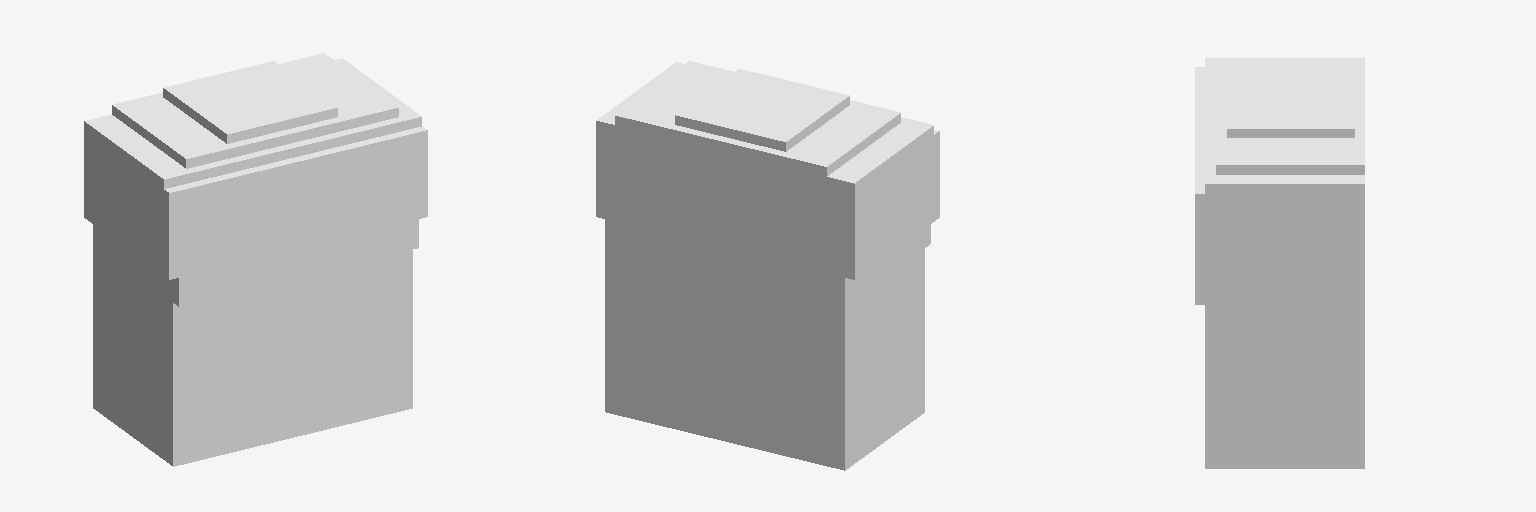
The model's file is torso_male_01.obj.
The picture shows the model from 3 angles: view 1: azimuth 30°, elevation 25°; view 2: azimuth 150°, elevation 25°; view 3: azimuth 270°, elevation 25°; orthographic projection.
Visible parts, largest first — view 1: torso_male_01; view 2: torso_male_01; view 3: torso_male_01.
Part boxes in pixels (x1,y1,x2,y2): torso_male_01: (84, 53, 427, 466); torso_male_01: (596, 61, 939, 470); torso_male_01: (1195, 58, 1364, 468).
Size of the model in its own units: 28 by 32 by 16.